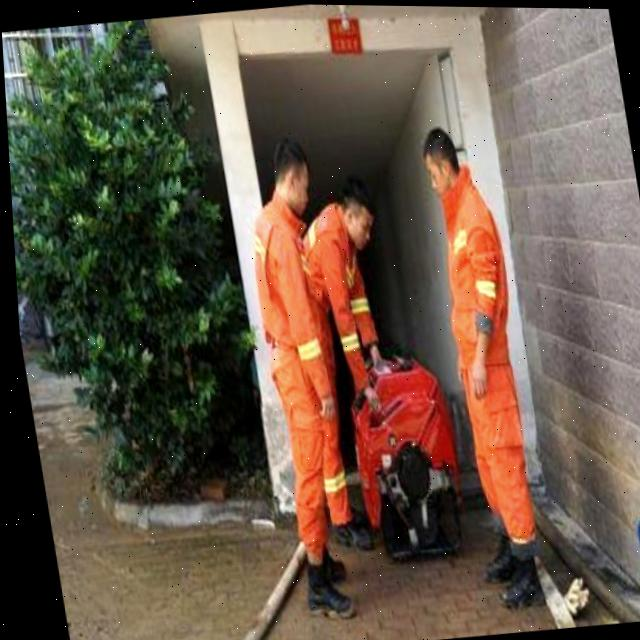rescuer: (398, 112, 578, 634), (223, 132, 395, 628), (292, 149, 420, 419)
